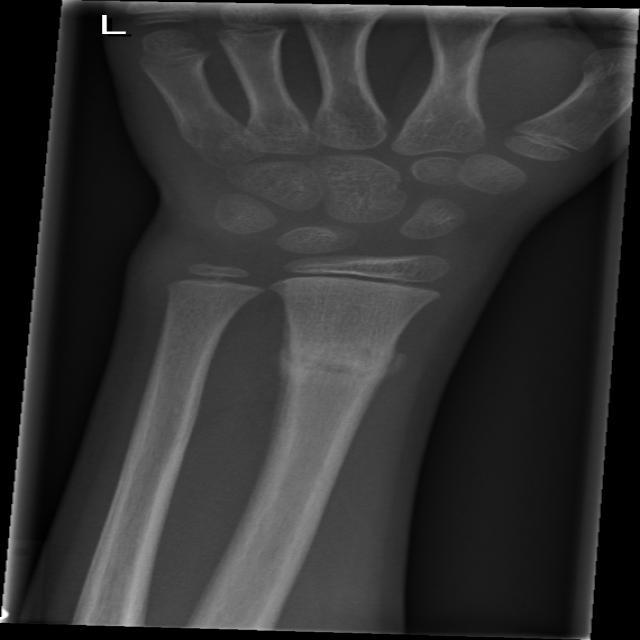radius fracture: (248, 314, 425, 439)
